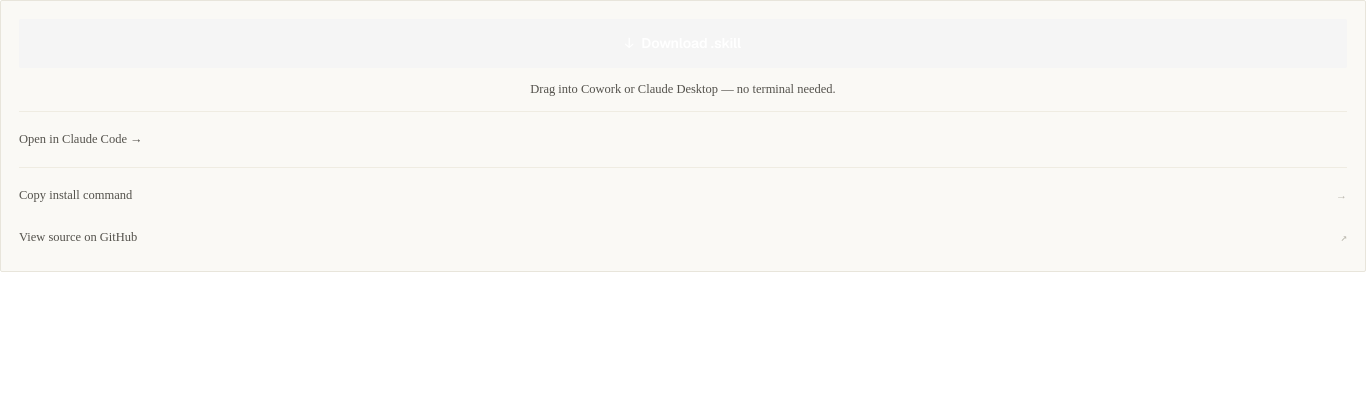
Test: FeedbackPrompt › localStorage.getItem throwing still renders the question
Click the button "Copy install command →" at x=76, y=194, box [19, 180, 1347, 210]
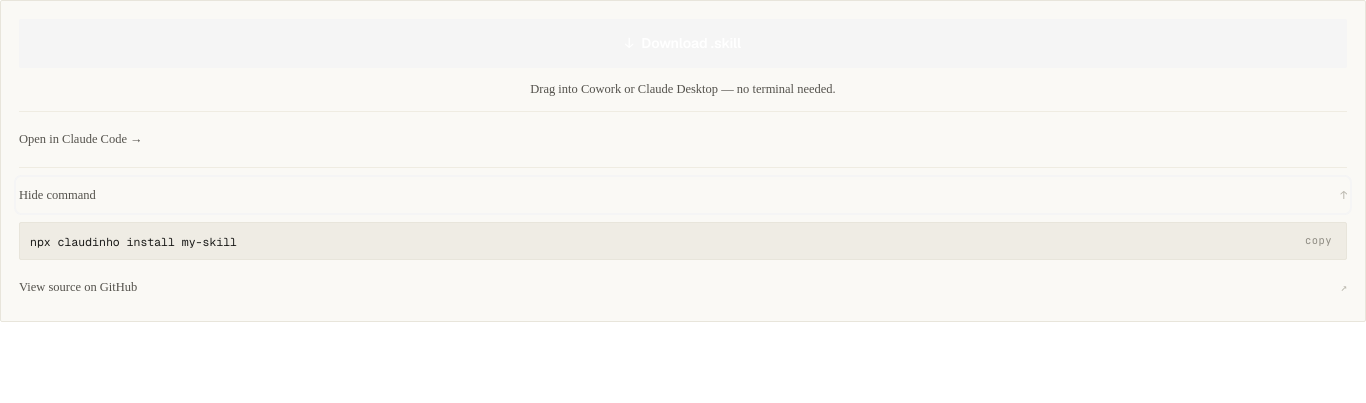
Click the button "copy" at x=1319, y=241, box [1301, 231, 1336, 251]
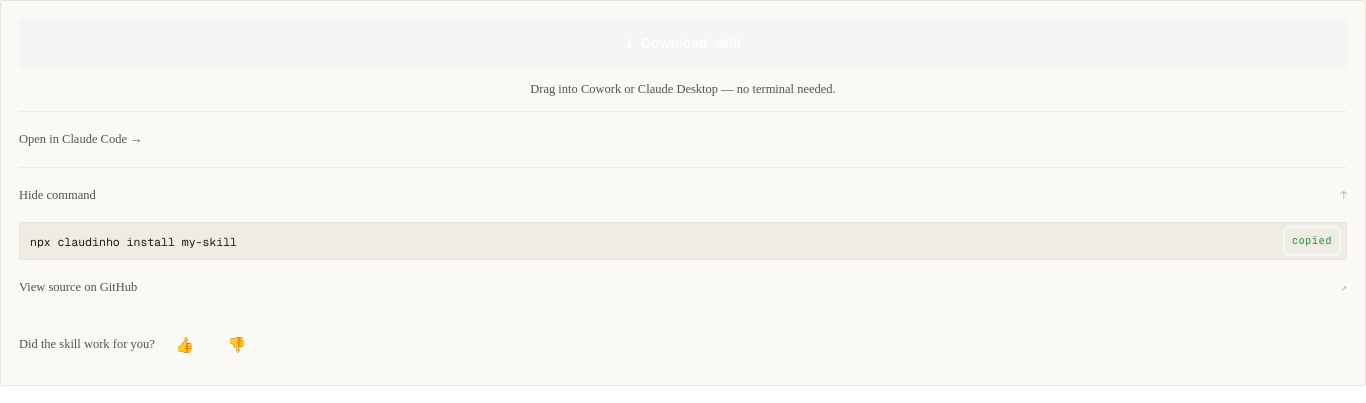
Result: the text "Did the skill work for you?" is shown at [19, 335, 155, 354]
